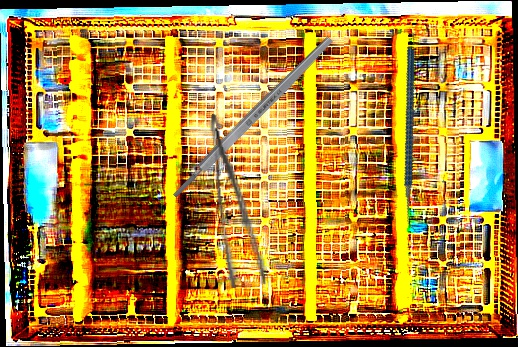Chopper: (349, 47, 478, 234)
Dressing Forceps: (206, 110, 269, 289)
Scalpel Handle: (169, 34, 336, 201)
